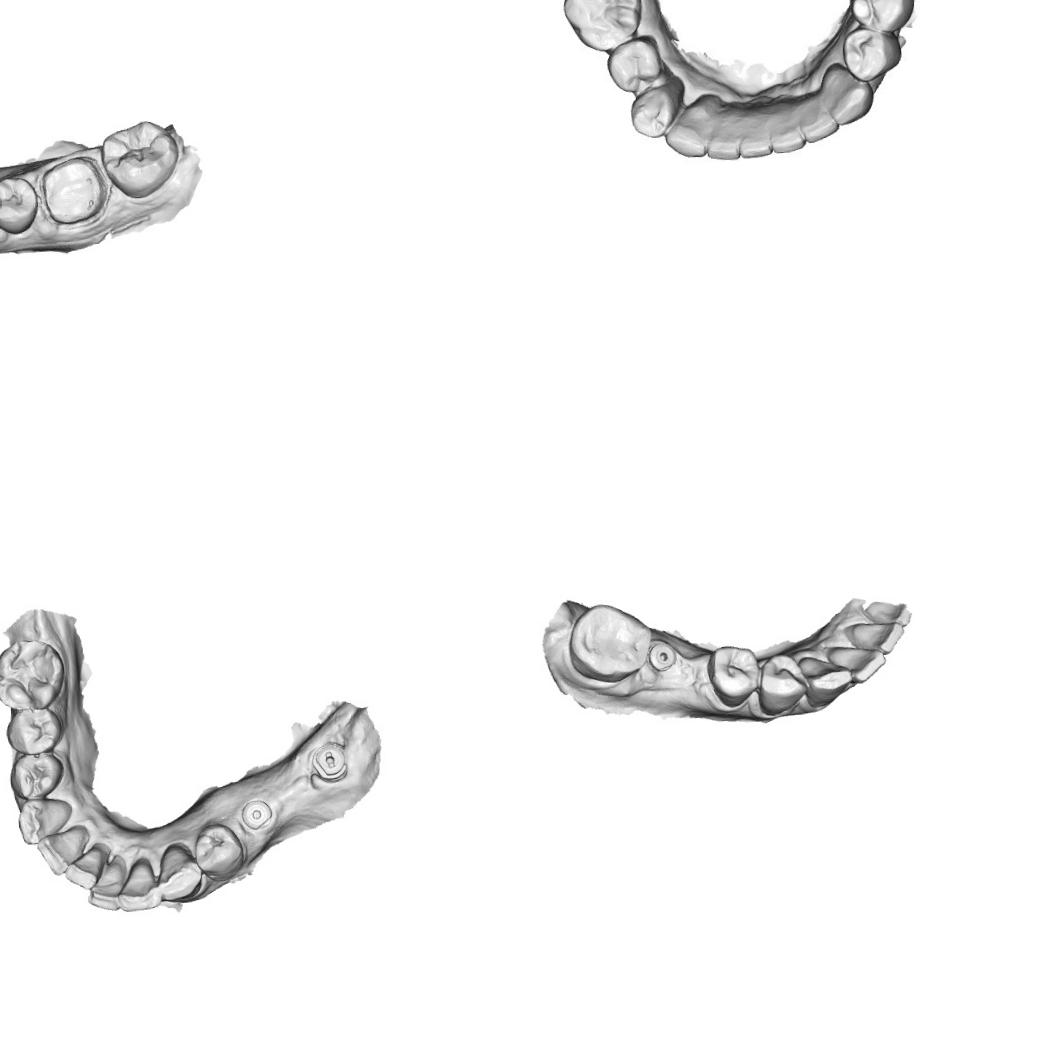canine: (818, 58, 876, 128), (660, 98, 717, 160), (796, 652, 854, 709), (154, 841, 204, 902), (16, 794, 74, 846)
crown: (38, 152, 108, 227)
implant: (238, 796, 274, 830), (644, 639, 678, 673)
implant_minus: (310, 742, 350, 782)
incisor: (824, 641, 888, 686), (113, 856, 162, 913), (701, 100, 742, 166), (35, 825, 86, 878), (795, 87, 840, 145), (842, 618, 905, 658), (766, 96, 805, 156), (734, 101, 773, 161), (84, 860, 127, 912), (62, 844, 106, 893), (860, 598, 912, 628)
molar: (564, 598, 654, 686), (98, 115, 182, 202), (0, 635, 67, 713), (557, 0, 645, 51)
premolar: (704, 642, 762, 709), (190, 819, 247, 884), (754, 650, 810, 716), (839, 27, 905, 81), (602, 35, 664, 92), (626, 82, 684, 141), (2, 704, 65, 756), (6, 750, 66, 802), (845, 0, 919, 38), (0, 173, 41, 236)
